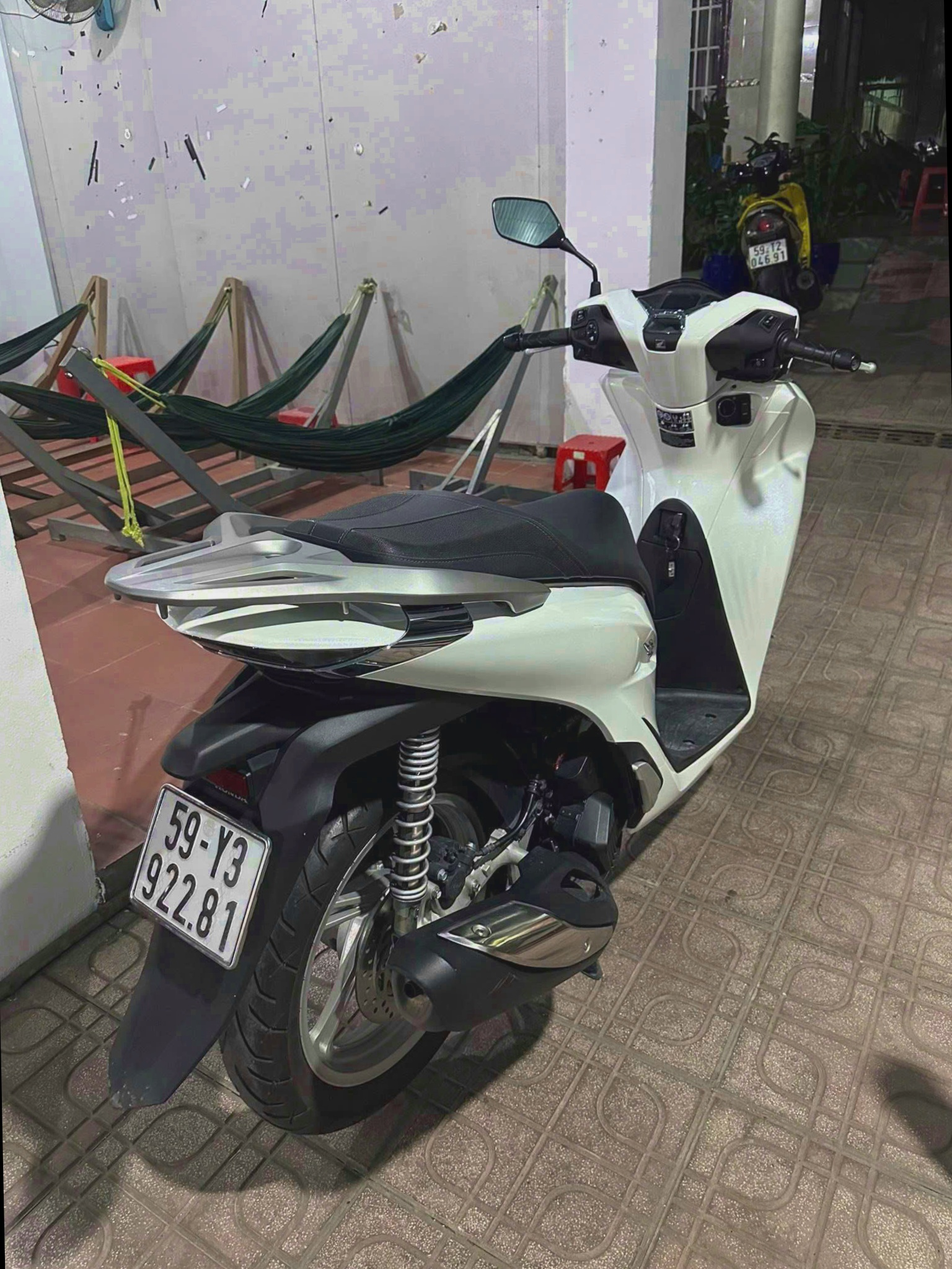Bien-so: (115, 778, 271, 978)
